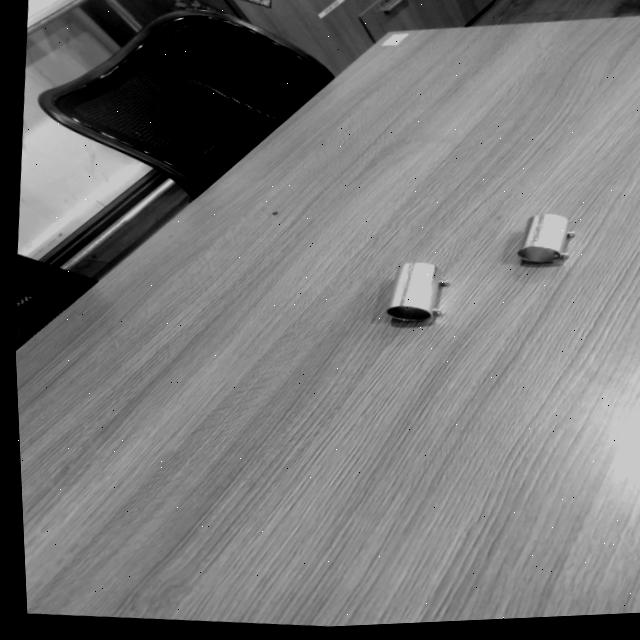Co_Lon: (382, 254, 450, 329)
Co_Nho: (514, 206, 576, 272)
